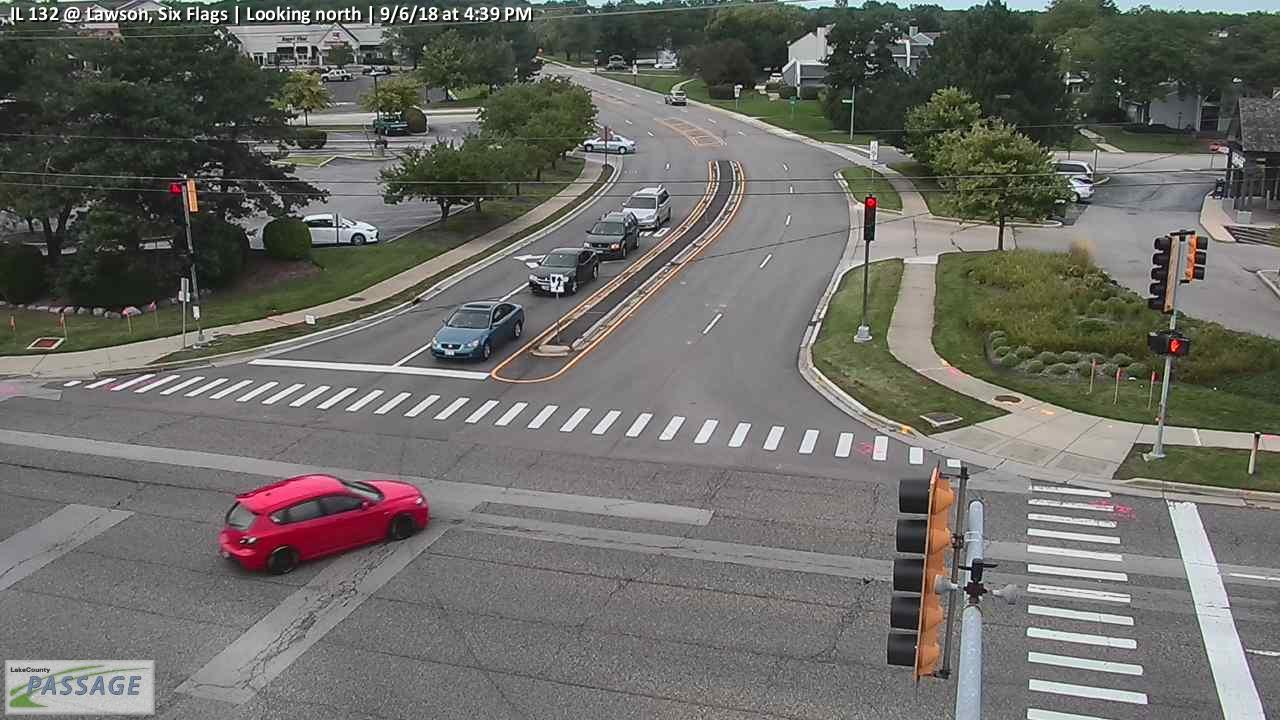SUV: (530, 247, 600, 295), (583, 209, 640, 258), (621, 186, 672, 231), (1035, 159, 1094, 188), (583, 132, 635, 154), (664, 91, 687, 106)
Sedan: (219, 474, 430, 575), (430, 299, 525, 361), (292, 214, 380, 245), (1043, 177, 1096, 202)
Truck: (373, 113, 407, 134), (320, 68, 351, 82)
